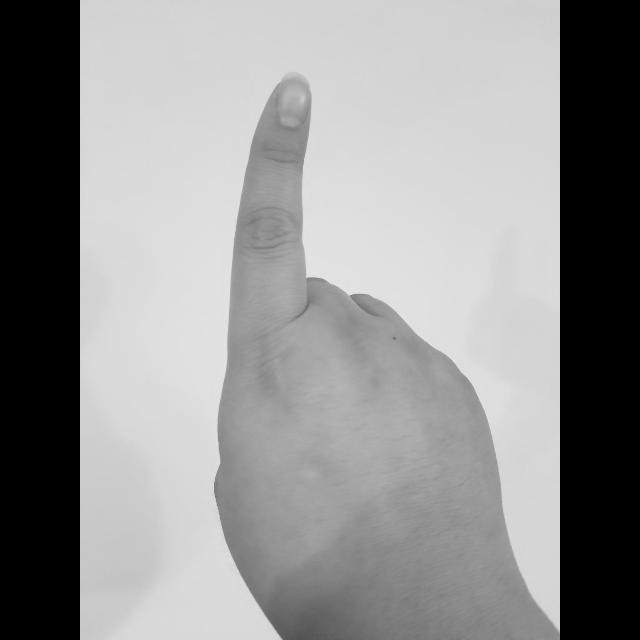D: (200, 65, 526, 640)
